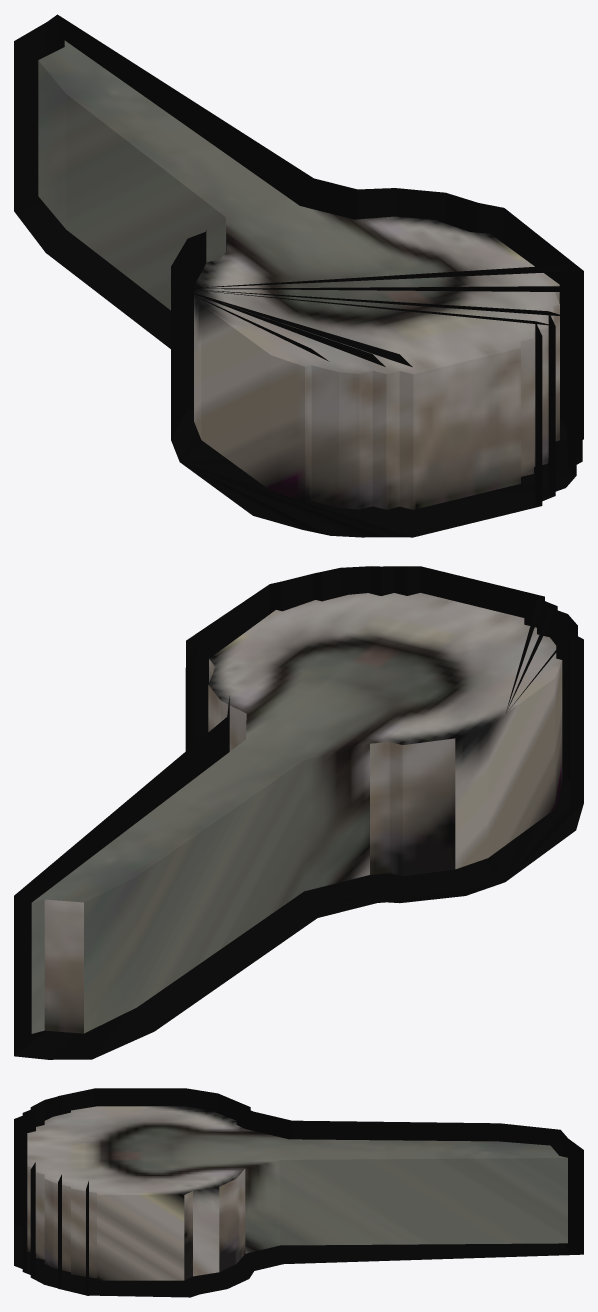
The model's file is Building_AncientLamp_Things_Building_Ruins_AncientLamppost_AncientLamppostC.glb.
The picture shows the model from 3 angles, top to bottom: view 1: azimuth 30°, elevation 25°; view 2: azimuth 150°, elevation 25°; view 3: azimuth 270°, elevation 25°; orthographic projection. The views are drawn at different scales.
Visible parts, largest first — view 1: Body, Outline; view 2: Body, Outline; view 3: Body, Outline.
Boxes of the visible parts, x1,y1,x2,y2 form: Body: (38, 40, 559, 509); Outline: (14, 14, 583, 537); Body: (31, 593, 562, 1033); Outline: (14, 566, 583, 1059); Body: (27, 1106, 567, 1280); Outline: (14, 1088, 583, 1297).
Bounding box in the file's own units: 0.381 × 0.2046 × 0.9118.
2 materials, 1 textured.
